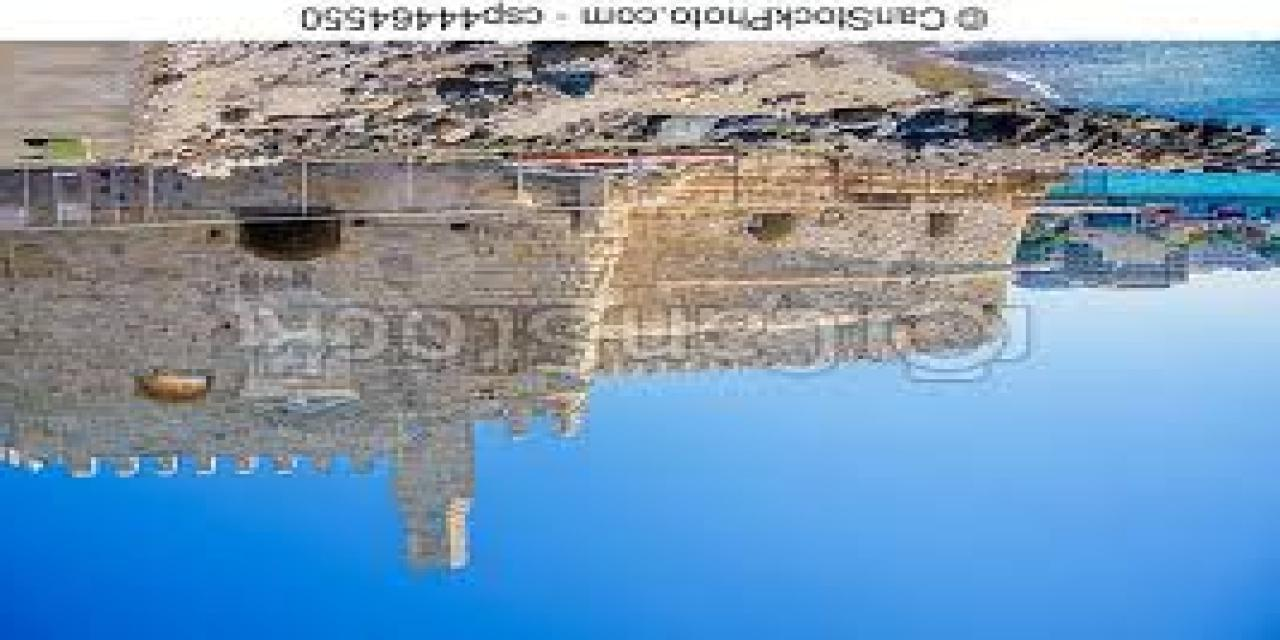Kules: (1, 173, 1055, 572)
